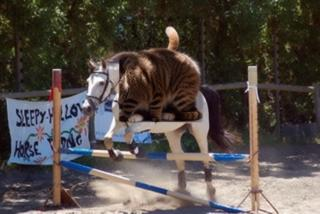cat: (119, 17, 202, 121)
horse: (82, 50, 245, 198)
